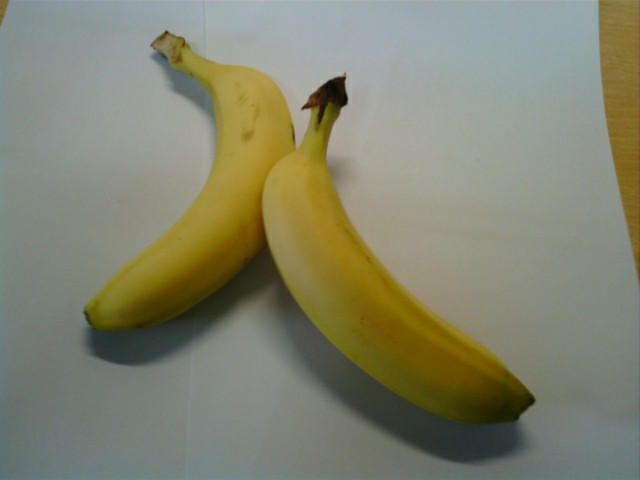fresh_banana: (263, 134, 537, 427), (82, 67, 294, 338)
